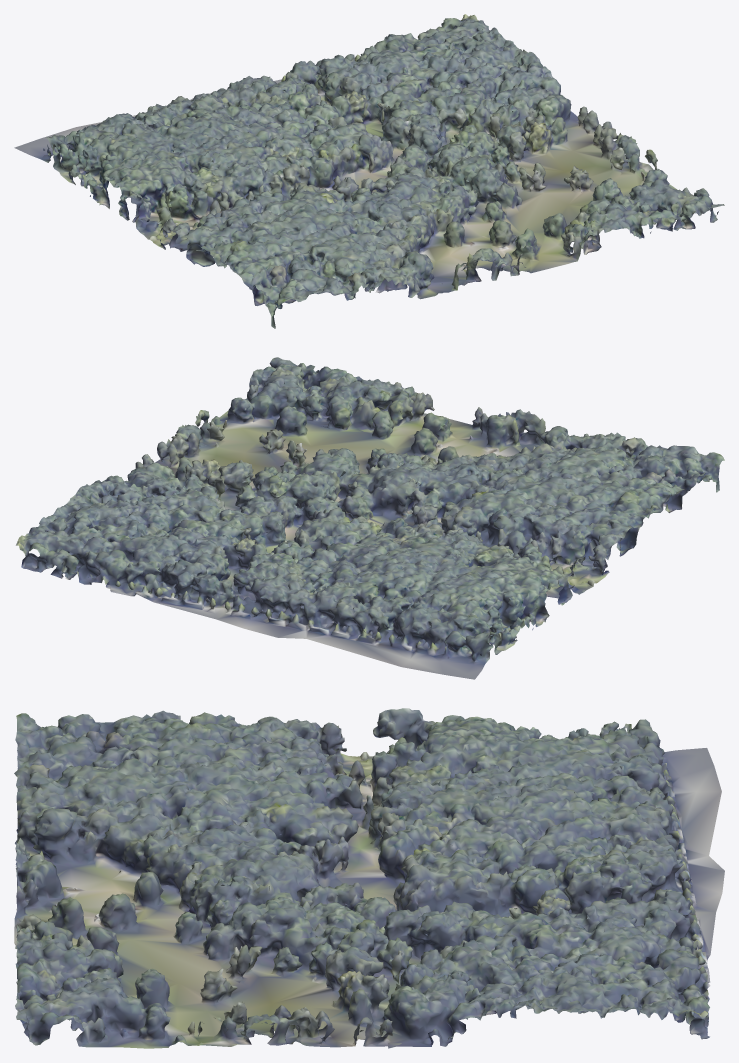
Rendered from tile-3894_58193.glb.
3 renders of one model, top to bottom at view 1: azimuth 30°, elevation 25°; view 2: azimuth 150°, elevation 25°; view 3: azimuth 270°, elevation 25°, orthographic. The views are drawn at different scales.
Visible parts, largest first — view 1: world; view 2: world; view 3: world.
Part boxes in pixels (x1,y1,x2,y2): world: (14, 14, 724, 328); world: (16, 357, 724, 679); world: (14, 708, 724, 1048).
Size of the model in its own units: 372 by 30.77 by 371.
